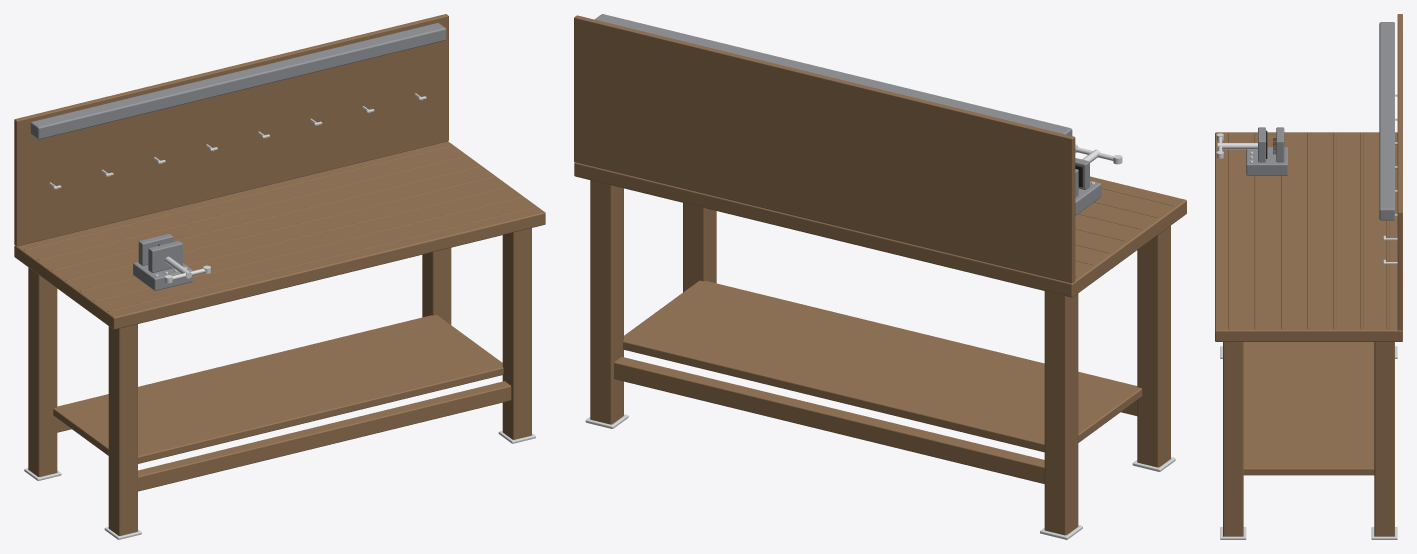
The model's file is mega-weapon-pack-gunsmith-bench-e1ea0144__33429.glb.
3 views of the same model, side by side, from view 1: azimuth 30°, elevation 25°; view 2: azimuth 150°, elevation 25°; view 3: azimuth 270°, elevation 25° (orthographic). The views are drawn at different scales.
Parts seen in each view (by area): view 1: gunsmith-bench, crank/alloyDark; view 2: gunsmith-bench; view 3: gunsmith-bench, crank/steelBright, crank/alloyDark.
Boxes of the visible parts, x1,y1,x2,y2 form: gunsmith-bench: [14, 14, 545, 539]; crank/alloyDark: [148, 241, 182, 272]; gunsmith-bench: [574, 14, 1186, 539]; gunsmith-bench: [1215, 14, 1402, 539]; crank/steelBright: [1216, 133, 1257, 158]; crank/alloyDark: [1258, 127, 1265, 162].
Bounding box in the file's own units: 1.8 × 1.4 × 0.7199.
